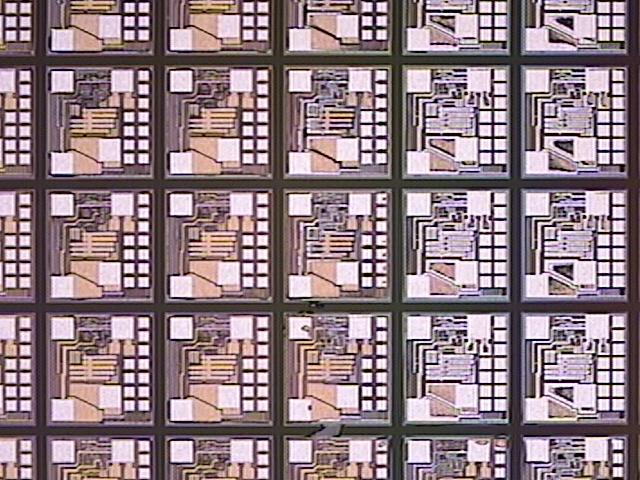COATING BAD: (305, 1, 640, 480)
